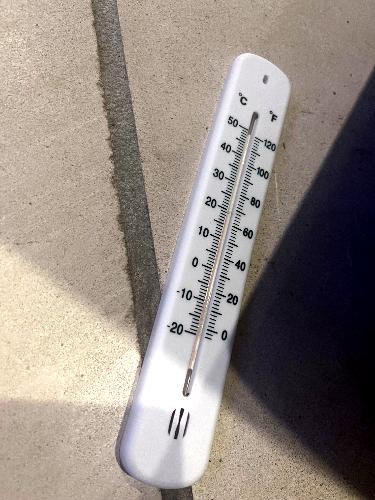thermo: (117, 55, 327, 485)
